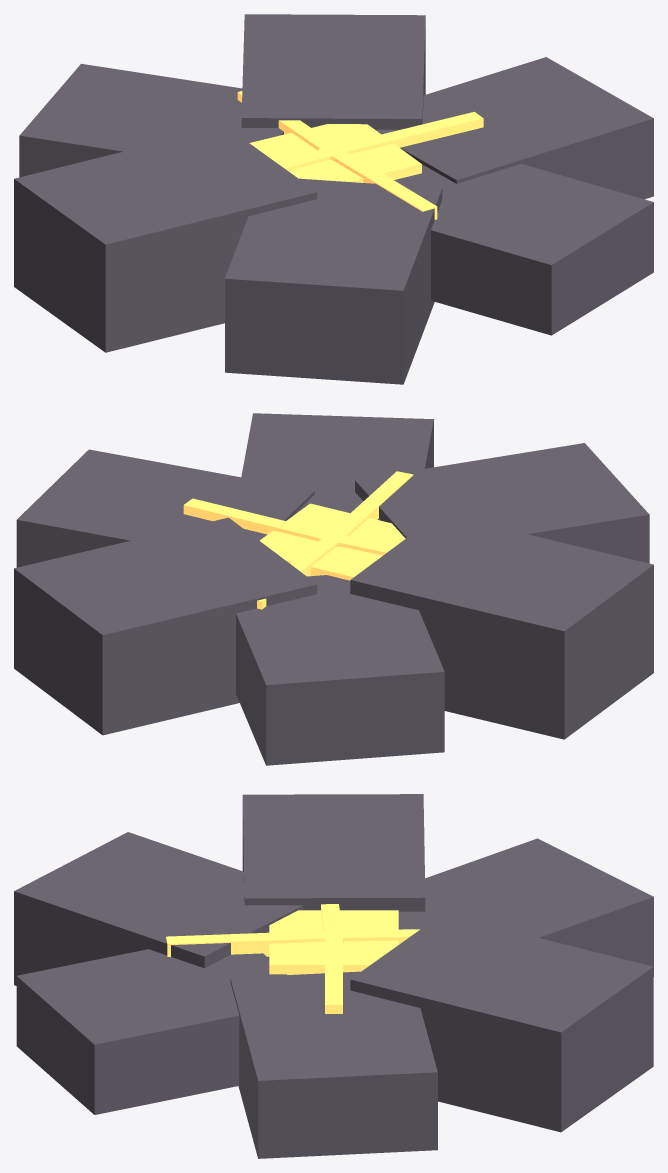
File: lava_rock.glb
The picture shows the model from 3 angles, top to bottom: view 1: azimuth 30°, elevation 25°; view 2: azimuth 150°, elevation 25°; view 3: azimuth 270°, elevation 25°; orthographic projection.
Visible parts, largest first — view 1: lava_rock; view 2: lava_rock; view 3: lava_rock.
Part boxes in pixels (x1=…): lava_rock: x1=14, y1=14, x2=653, y2=384; lava_rock: x1=14, y1=413, x2=653, y2=765; lava_rock: x1=14, y1=794, x2=653, y2=1158.
Size of the model in its own units: 2.49 by 0.4616 by 2.48.
